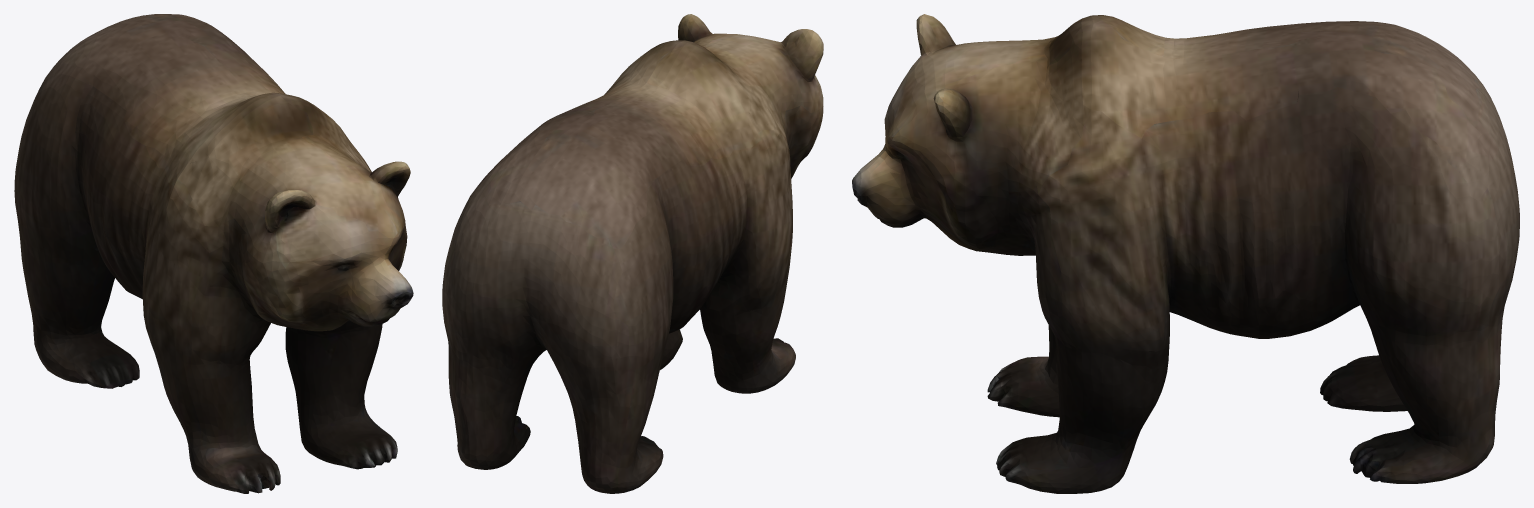
File: ours.glb
3 views of the same model, side by side, from view 1: azimuth 30°, elevation 25°; view 2: azimuth 150°, elevation 25°; view 3: azimuth 270°, elevation 25° (orthographic). The views are drawn at different scales.
Parts seen in each view (by area): view 1: world; view 2: world; view 3: world.
Part boxes in pixels (x1,y1,x2,y2): world: (14,14,413,493); world: (442,14,823,493); world: (852,14,1519,493).
Size of the model in its own units: 0.4558 by 0.7001 by 0.9985.
Materials: 1 (1 with a texture image).
